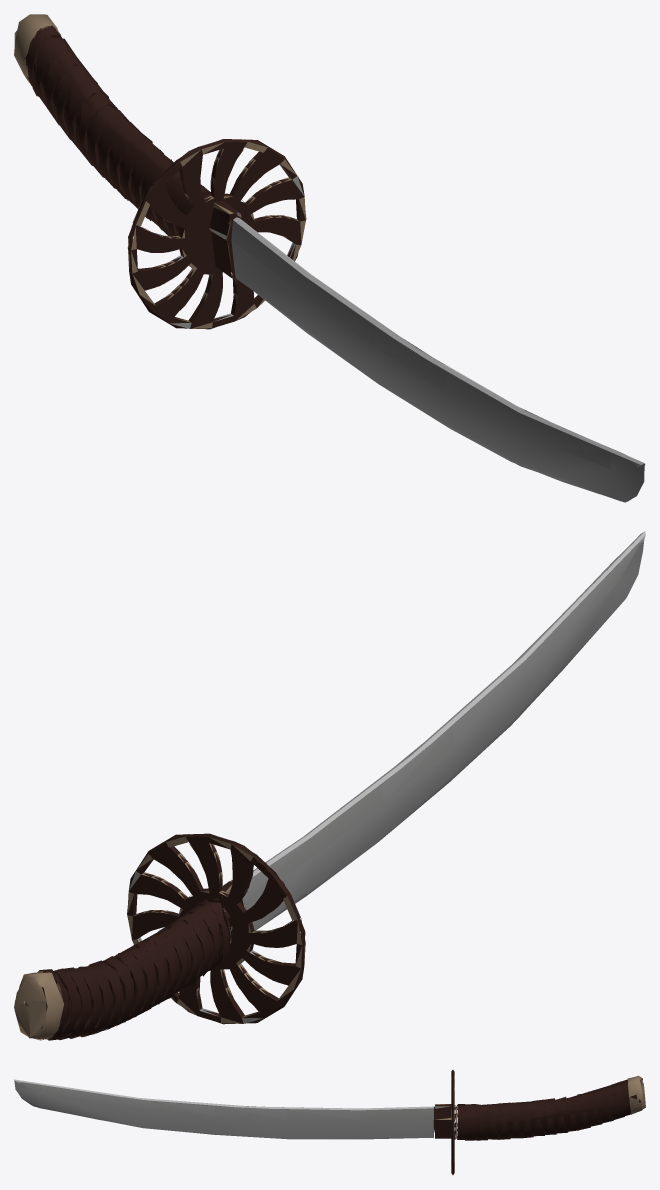
File: katana.glb
The picture shows the model from 3 angles, top to bottom: view 1: azimuth 30°, elevation 25°; view 2: azimuth 150°, elevation 25°; view 3: azimuth 270°, elevation 25°; orthographic projection. The views are drawn at different scales.
Visible parts, largest first — view 1: Katana; view 2: Katana; view 3: Katana.
Part boxes in pixels (box(x1,y1,x2,y2)): Katana: box(14, 14, 645, 502); Katana: box(14, 531, 645, 1040); Katana: box(14, 1070, 645, 1174).
Size of the model in its own units: 0.2004 by 0.2012 by 1.2.
